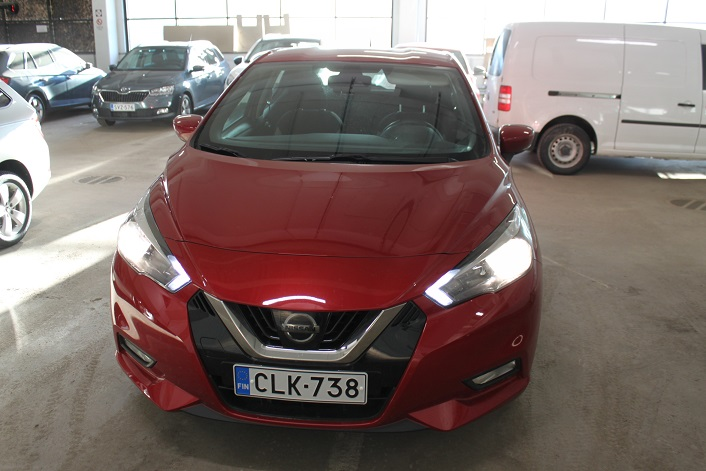license: (230, 363, 367, 408)
